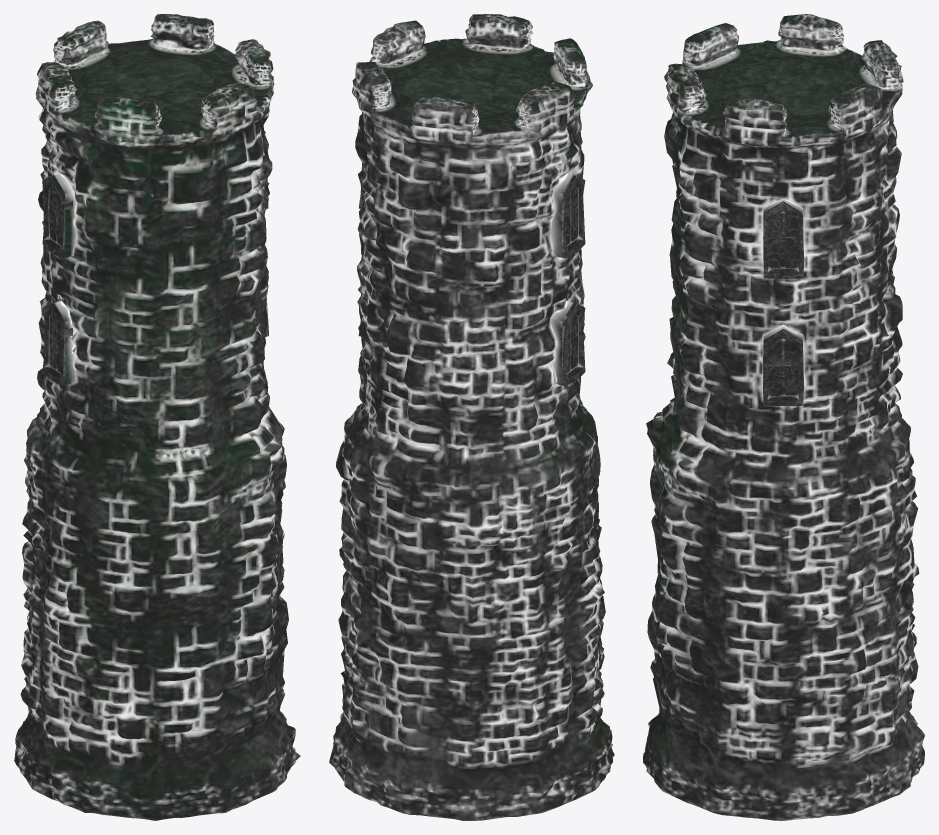
File: BLD_NeuTower.glb
The picture shows the model from 3 angles, left to right: view 1: azimuth 30°, elevation 25°; view 2: azimuth 150°, elevation 25°; view 3: azimuth 270°, elevation 25°; orthographic projection.
Visible parts, largest first — view 1: Tower2_lambert1_0; view 2: Tower2_lambert1_0; view 3: Tower2_lambert1_0.
Boxes of the visible parts, x1,y1,x2,y2 form: Tower2_lambert1_0: (14, 14, 300, 820); Tower2_lambert1_0: (329, 14, 614, 820); Tower2_lambert1_0: (643, 14, 924, 820).
Bounding box in the file's own units: 322 × 885 × 322.
1 material, 1 textured.
